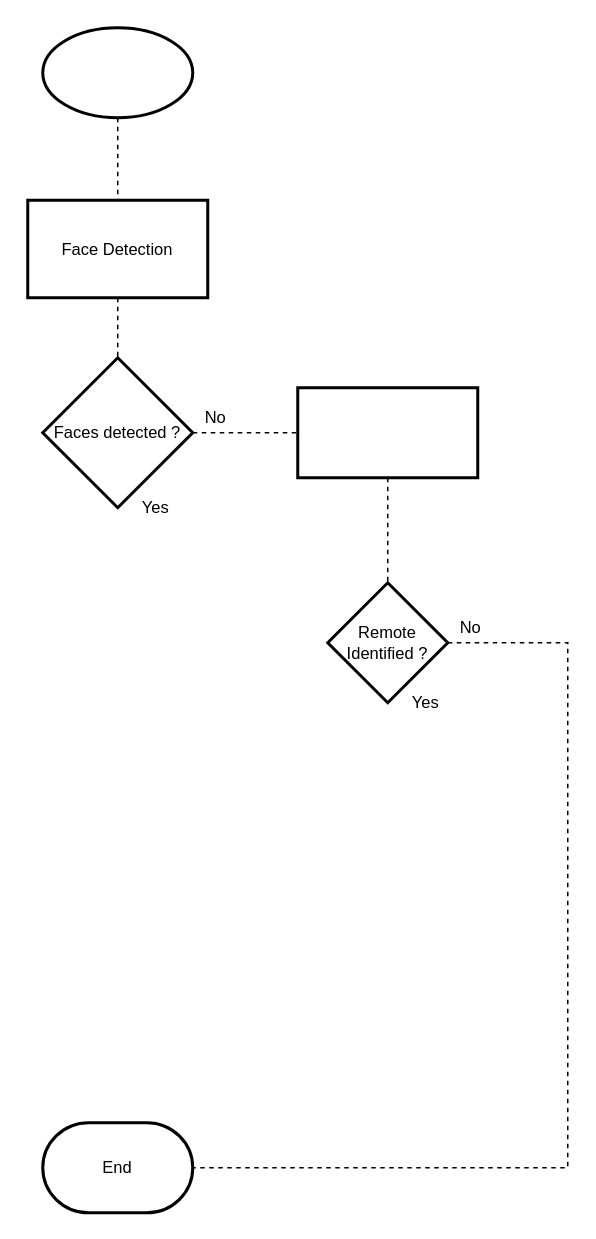
Image size: 596x1239. Some labels were removed from this diagram. The shapes that lost their labels are listed below. From the top down, each one's centre as x and y in pixels, then its label:
the point at 117,72: TV On
the point at 387,432: Remote position identification
